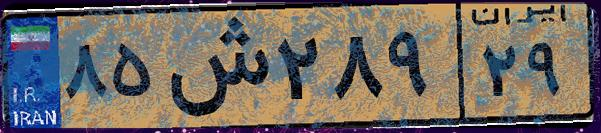2: (270, 28, 330, 110), (475, 38, 525, 113)
5: (110, 28, 158, 98)
8: (330, 28, 385, 110), (57, 26, 110, 100)
9: (385, 28, 445, 110), (525, 38, 570, 115)
ش: (158, 12, 270, 120)
